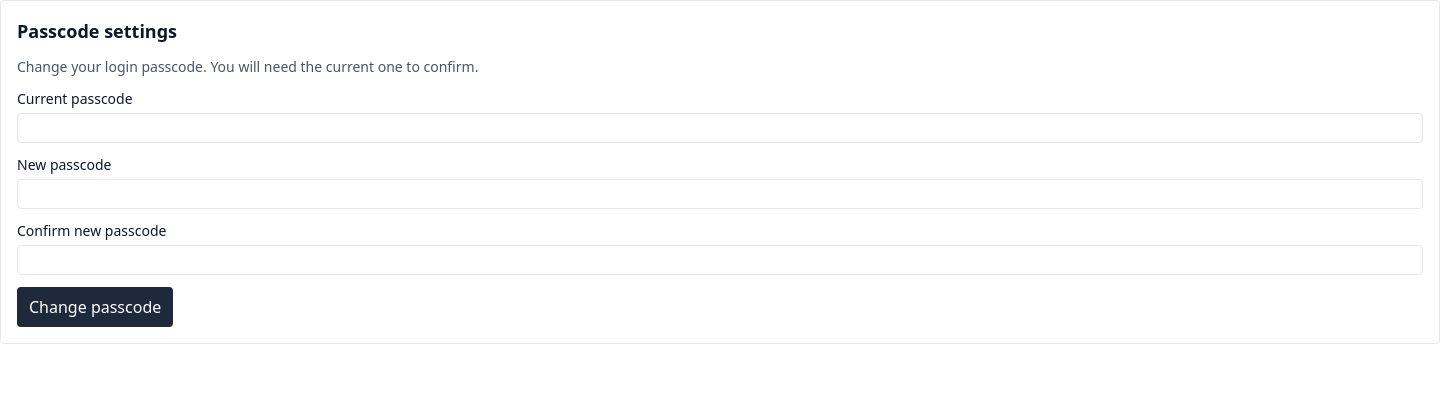
it: PasscodeSettings › submits current and new passcode on success
In the password field labelled "Current passcode": (720, 128) [17,113,1423,143], type "old-pass"
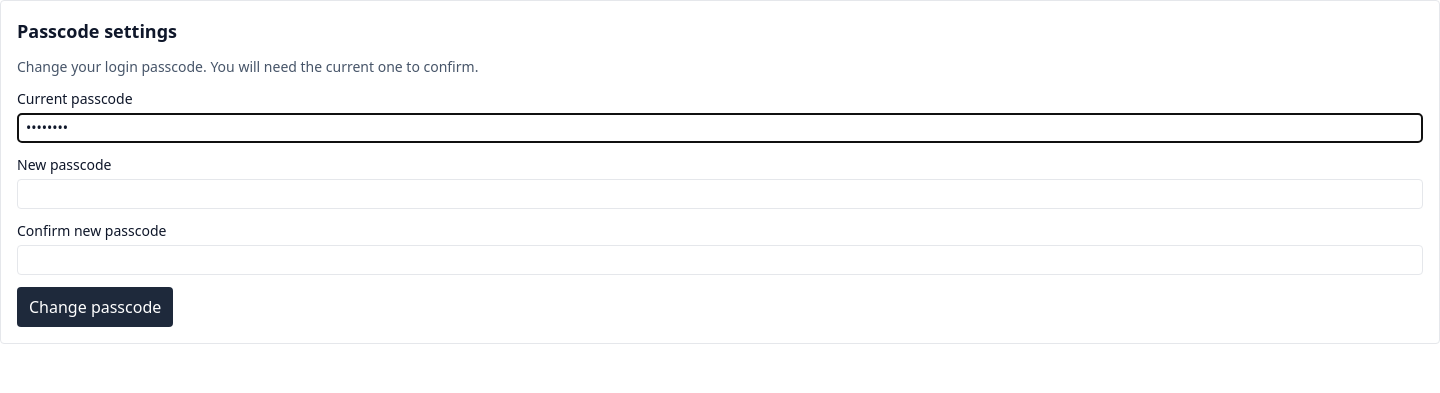
In the password field labelled "New passcode": (720, 194) [17,179,1423,209], type "new-pass"
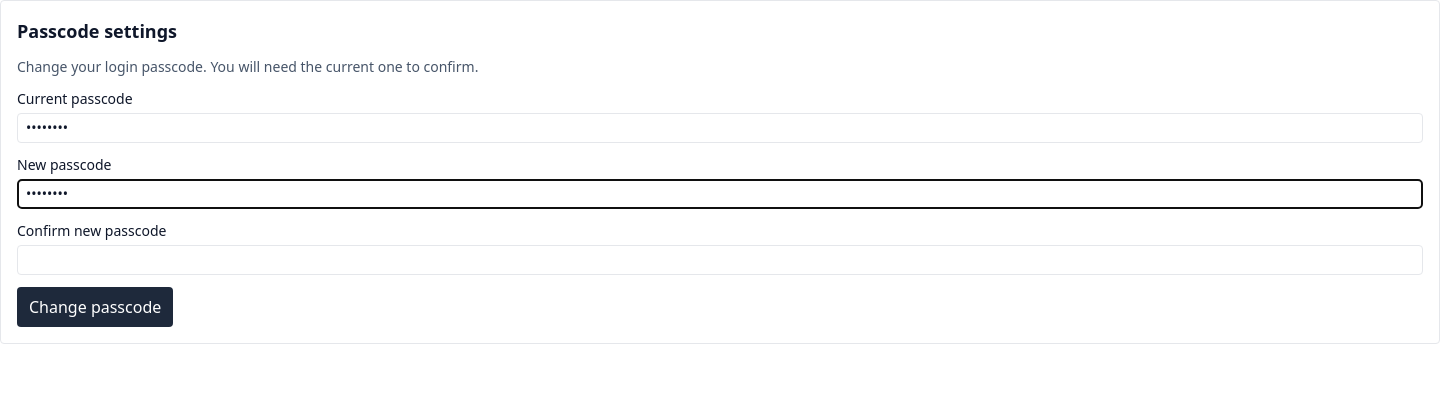
In the password field labelled "Confirm new passcode": (720, 260) [17,245,1423,275], type "new-pass"
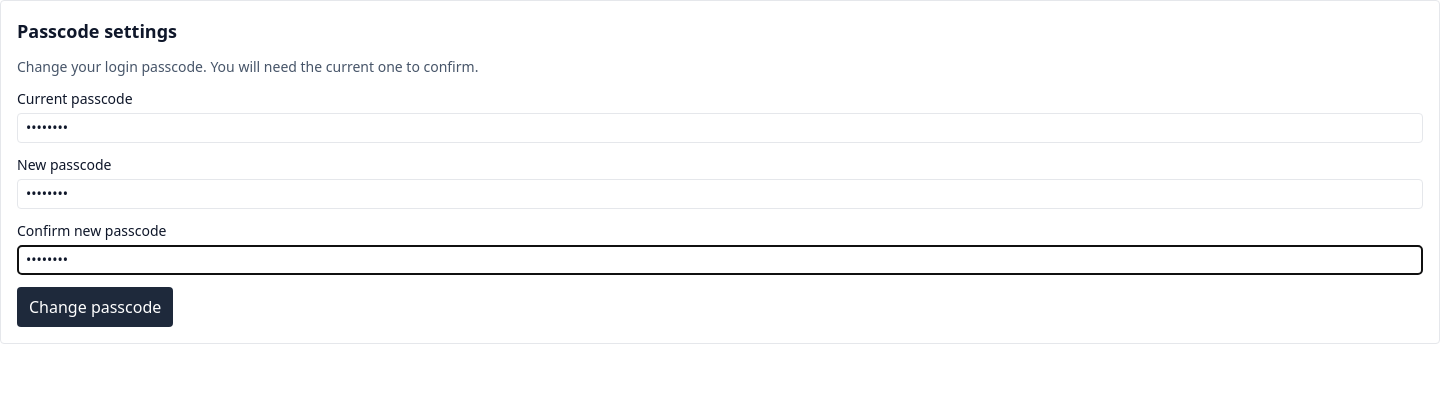
Click the button "Change passcode": (95, 307) [17,287,173,327]
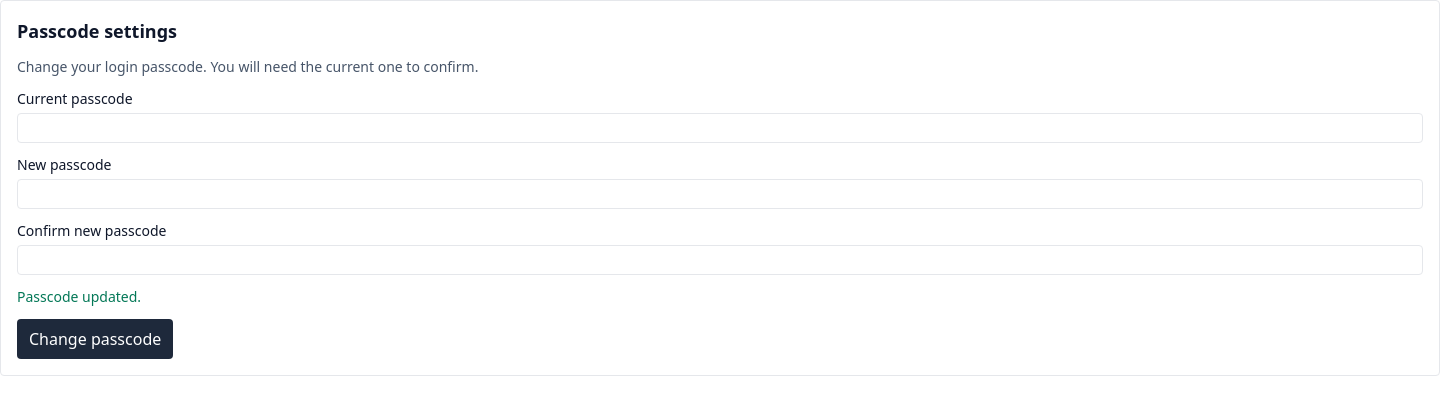
Now the text "Passcode updated." is shown, box [17,287,141,306]
Now the password field labelled "Current passcode" is empty, box [17,113,1423,143]
